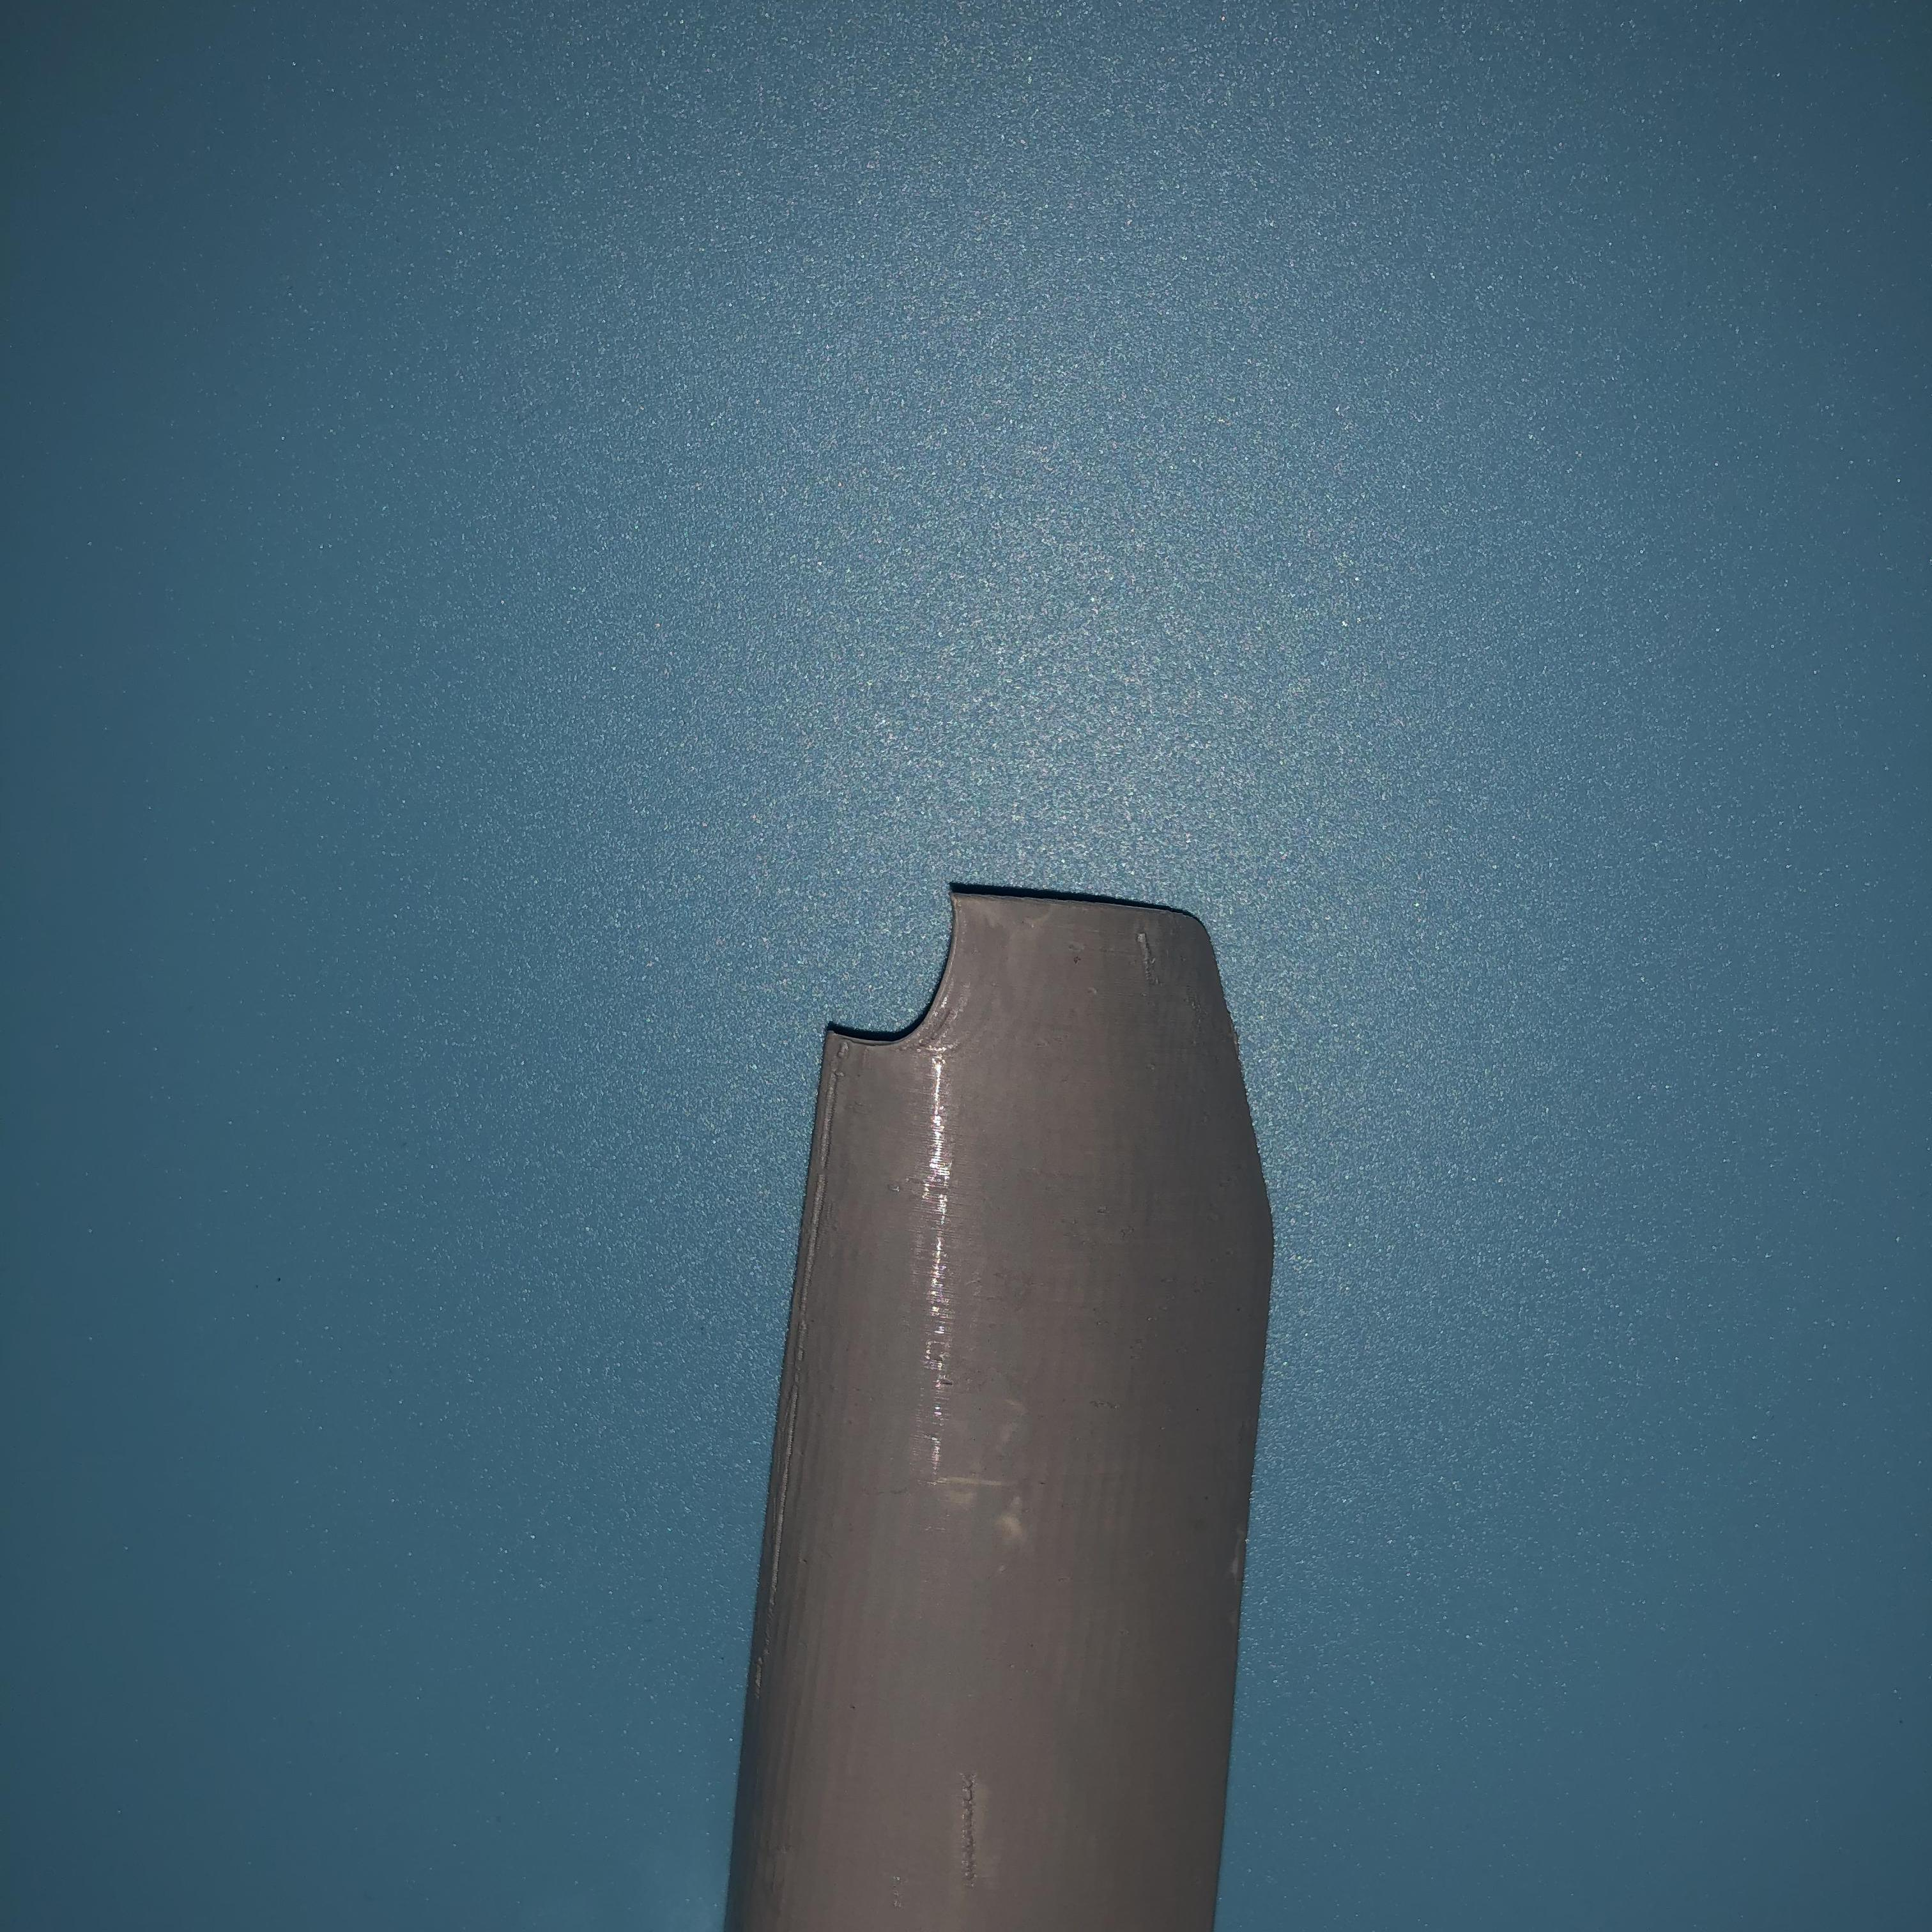fracture: (826, 890, 984, 1076)
